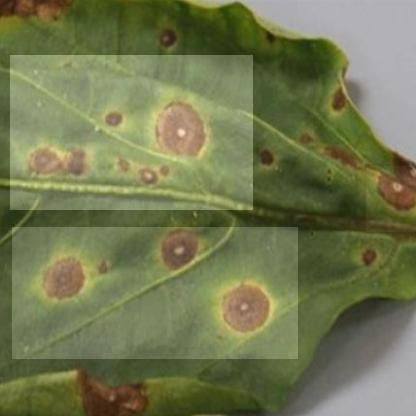black-spot: (12, 227, 298, 359), (10, 55, 253, 210), (366, 166, 416, 232)
